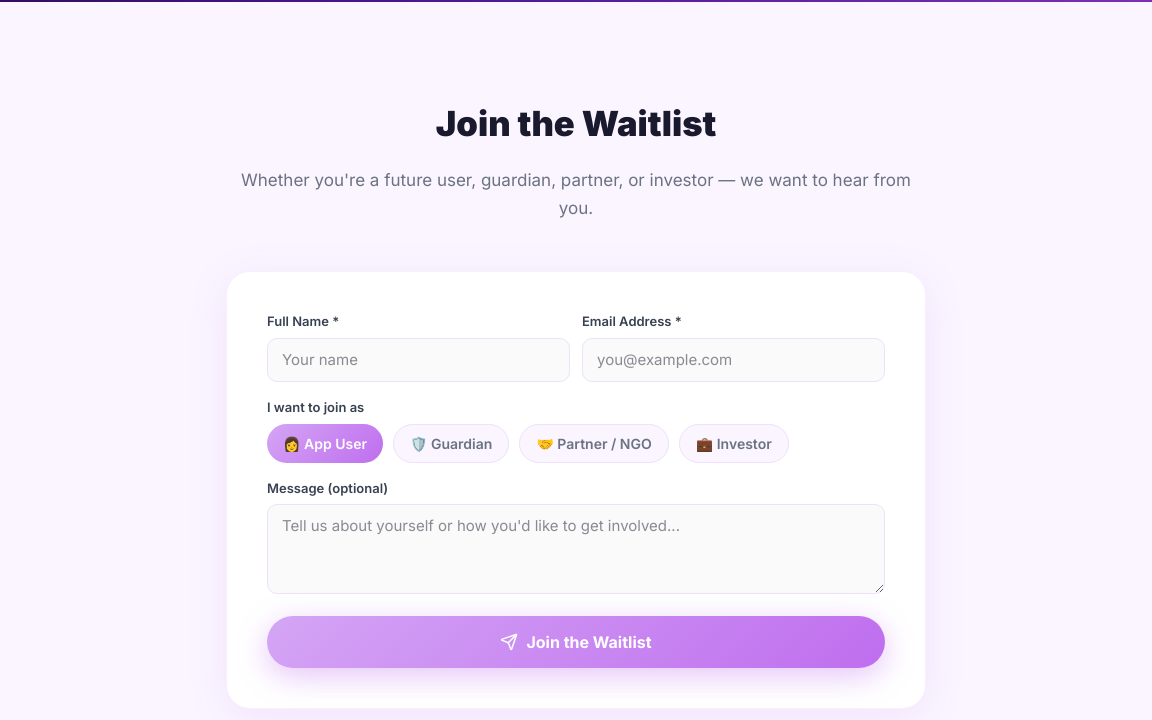
Test case: Waitlist page › does not claim the signup is recorded when it fell back to mailto
(page scrolled)
Type "Grace" into the field with placeholder "Your name" at (418, 360), box x1=267 y1=338 x2=570 y2=382
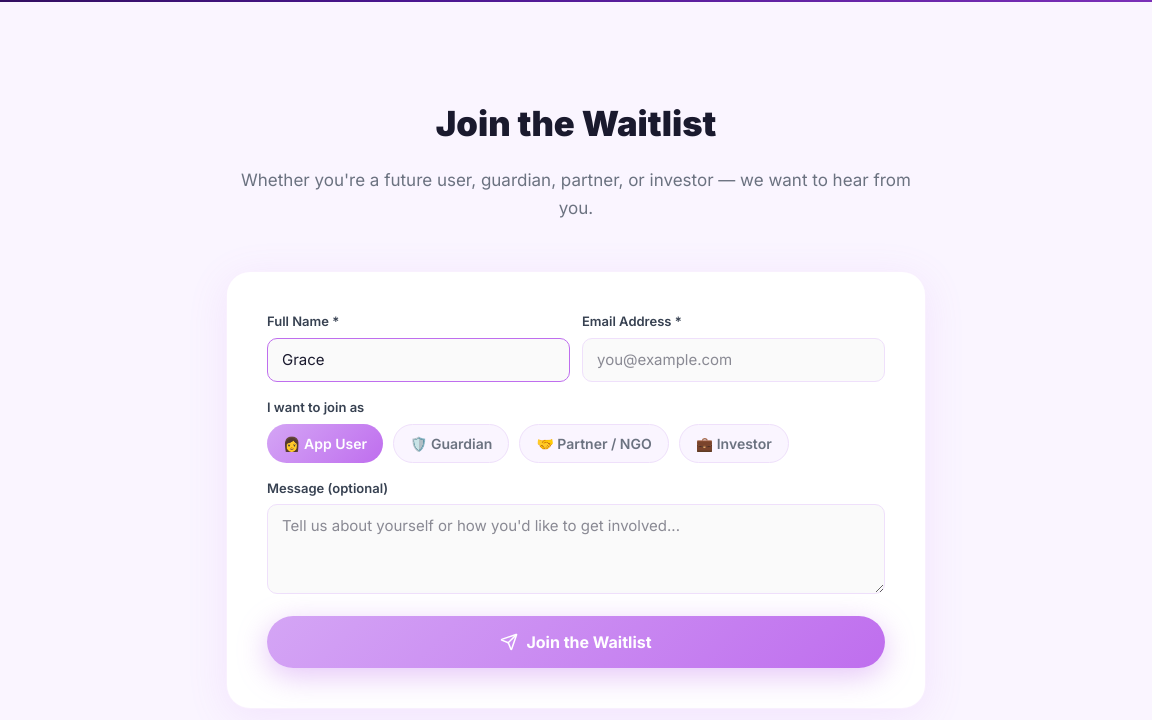
Type "grace@example.com" into the field with placeholder "you@example.com" at (734, 360), box x1=582 y1=338 x2=885 y2=382
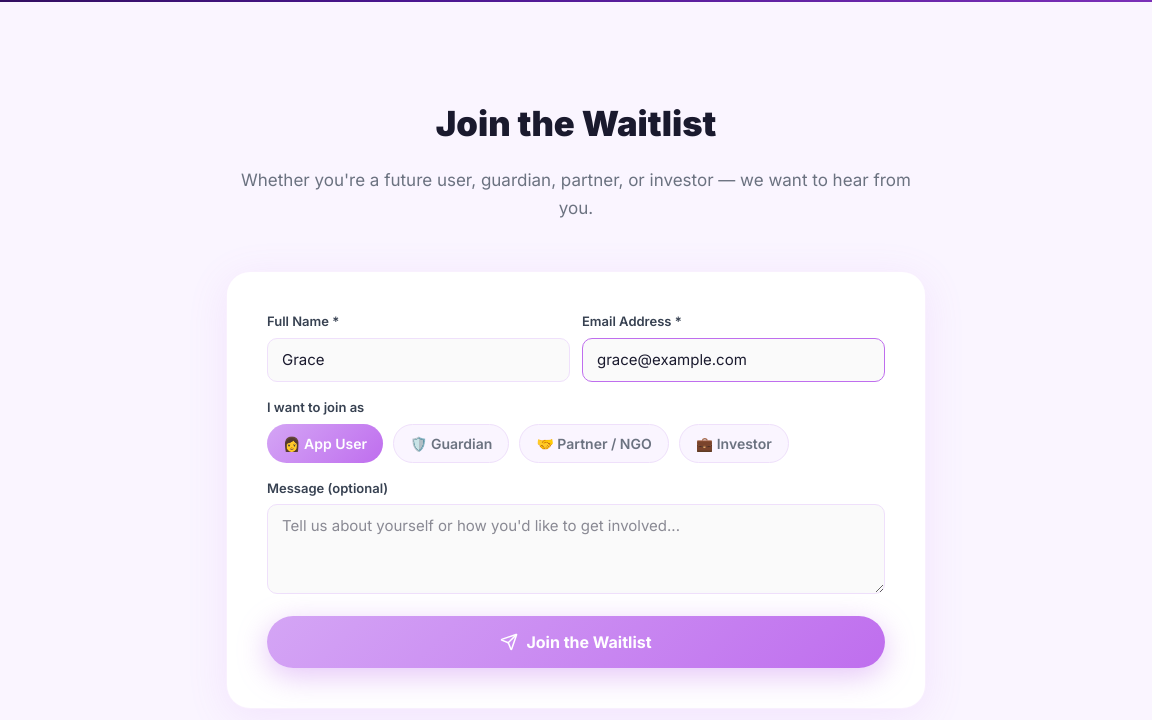
Click the button "Join the Waitlist" at (576, 642), box x1=267 y1=616 x2=885 y2=668
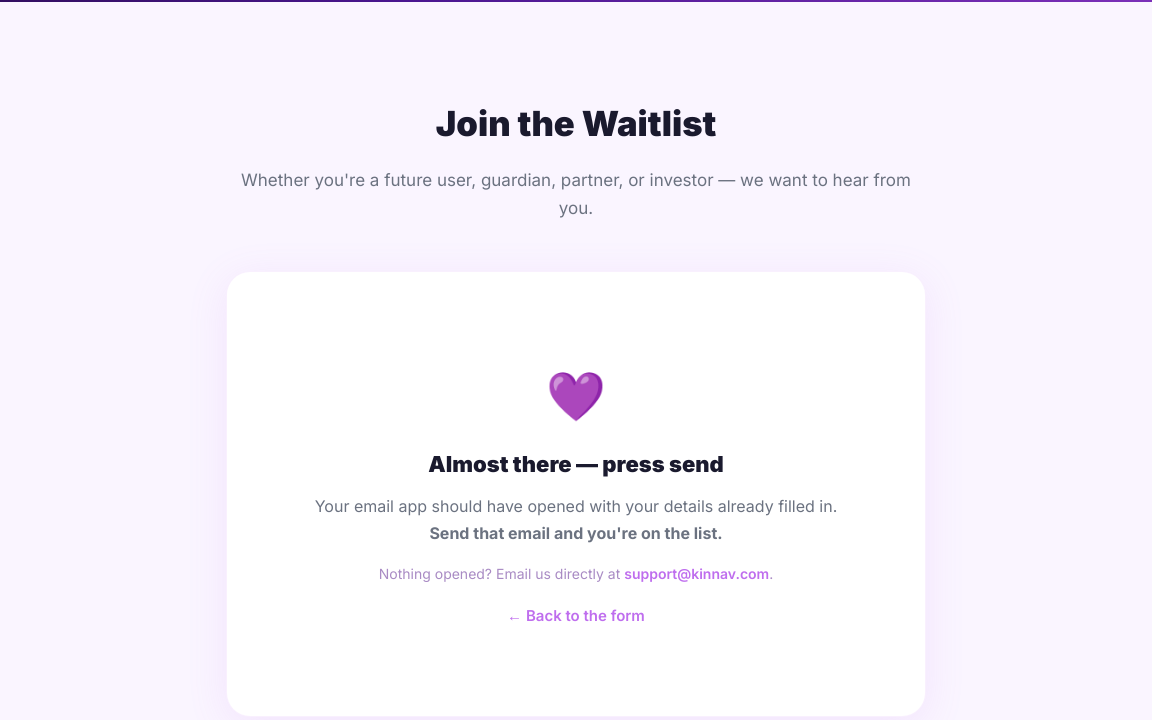
Check: the heading "Almost there — press send" is shown, box x1=428 y1=451 x2=724 y2=477
